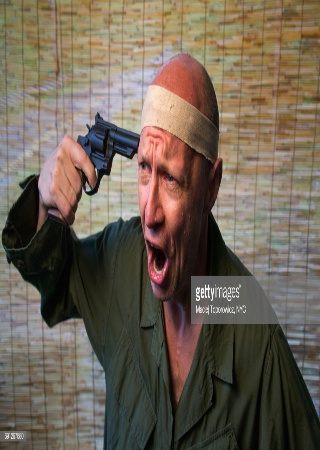handgun: (68, 114, 139, 195)
